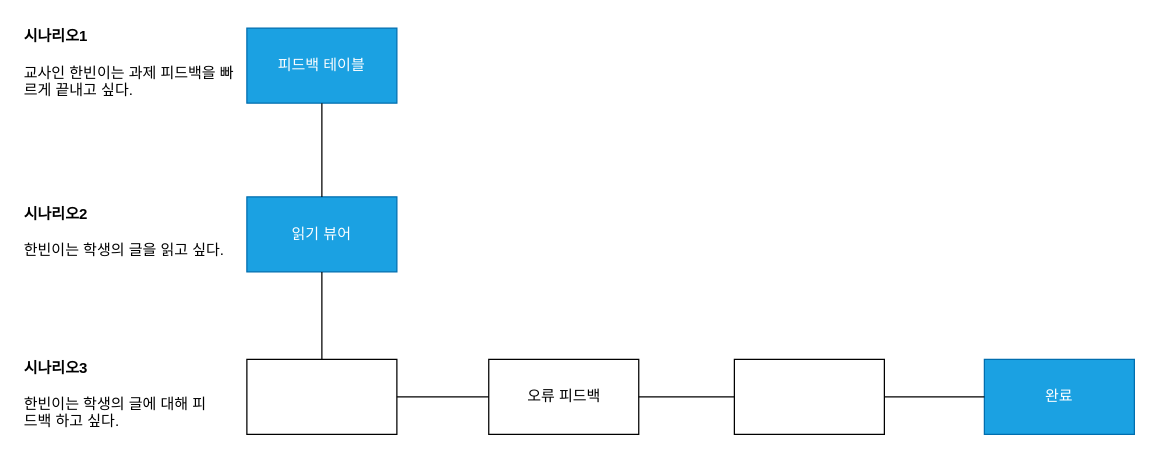
Some shapes in this 1156 by 456 pixel diagram are drawn without their labels. Each missing label, with the centre of its shape:
기대 피드백: the point at 808,396
칭찬 피드백: the point at 321,396
